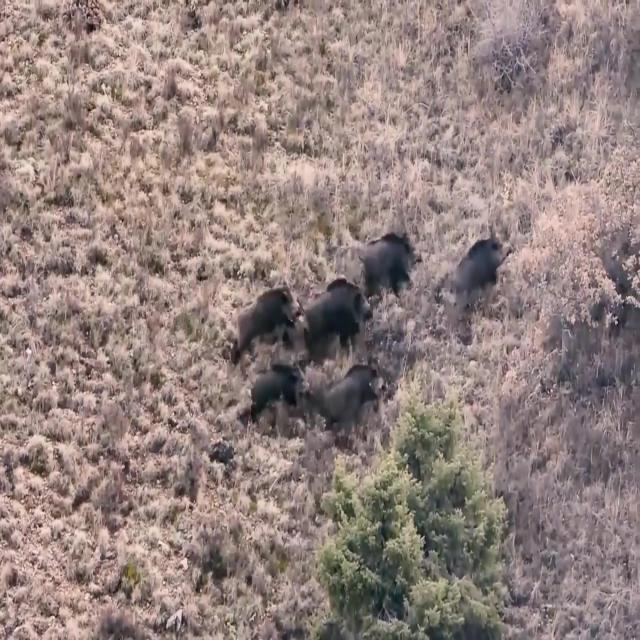pig: (239, 344, 311, 446), (302, 276, 374, 364), (316, 366, 406, 436), (362, 212, 428, 307), (442, 232, 526, 306), (220, 268, 304, 342)
